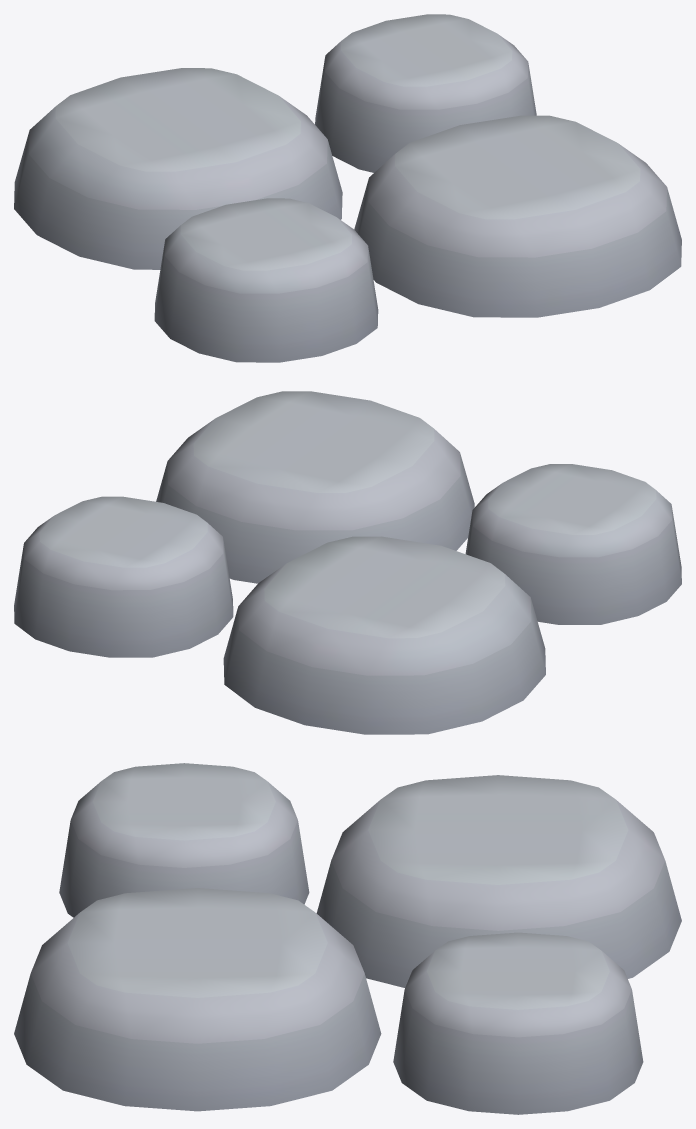
Rendered from prop_park_cobble_stones.glb.
3 renders of one model, top to bottom at view 1: azimuth 30°, elevation 25°; view 2: azimuth 150°, elevation 25°; view 3: azimuth 270°, elevation 25°, orthographic. The views are drawn at different scales.
Visible parts, largest first — view 1: cobble_stones; view 2: cobble_stones; view 3: cobble_stones.
Boxes of the visible parts, box(x1,y1,x2,y2) form: cobble_stones: box(14, 14, 681, 362); cobble_stones: box(14, 391, 681, 734); cobble_stones: box(14, 763, 681, 1114).
Size of the model in its own units: 0.9744 by 0.15 by 1.
1 material, 1 textured.
